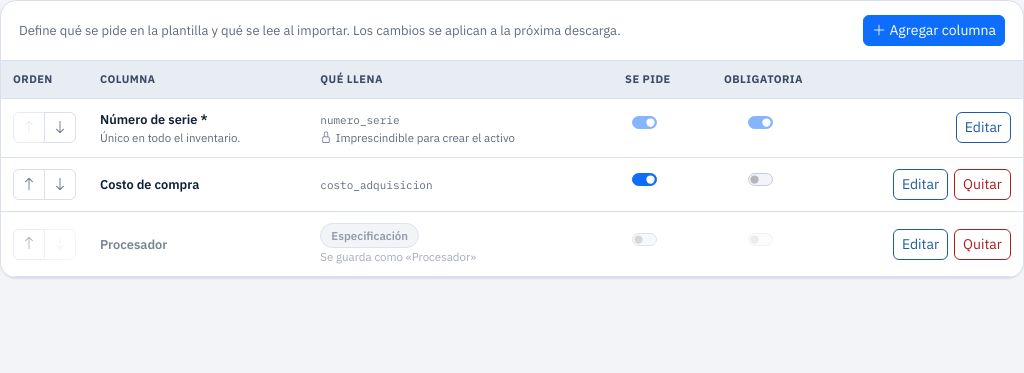
Cambiar una columna › si el cambio se rechaza, lo dice
Expected: the text "Costo de compra" is shown, x1=100 y1=176 x2=199 y2=193
Click the switch named "Pedir Costo de compra": (645, 179) x1=632 y1=173 x2=658 y2=186
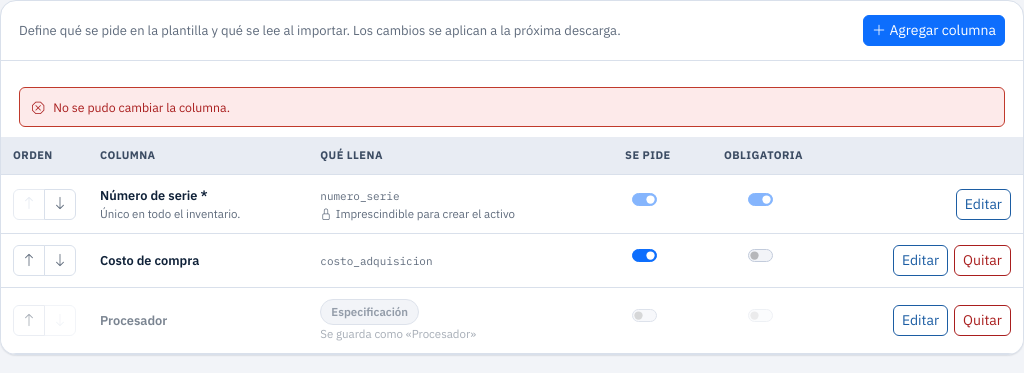
Expected: the text "No se pudo cambiar la columna." is shown, x1=19 y1=87 x2=1005 y2=127
